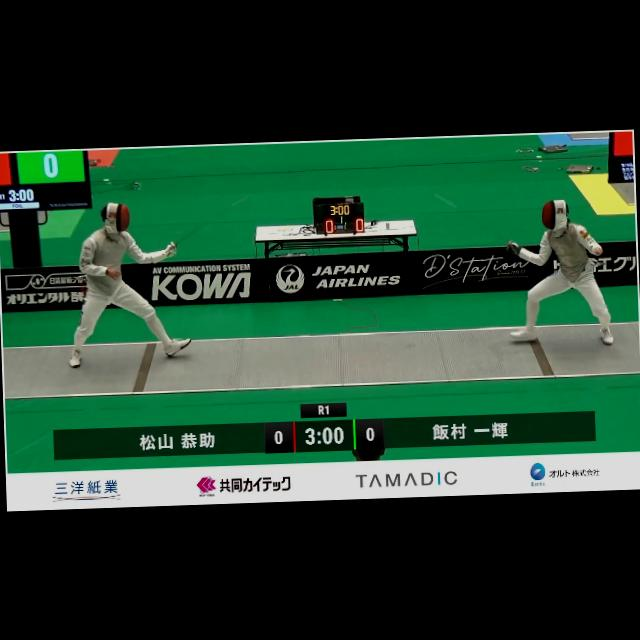blade: (166, 187, 258, 254), (429, 188, 516, 254)
